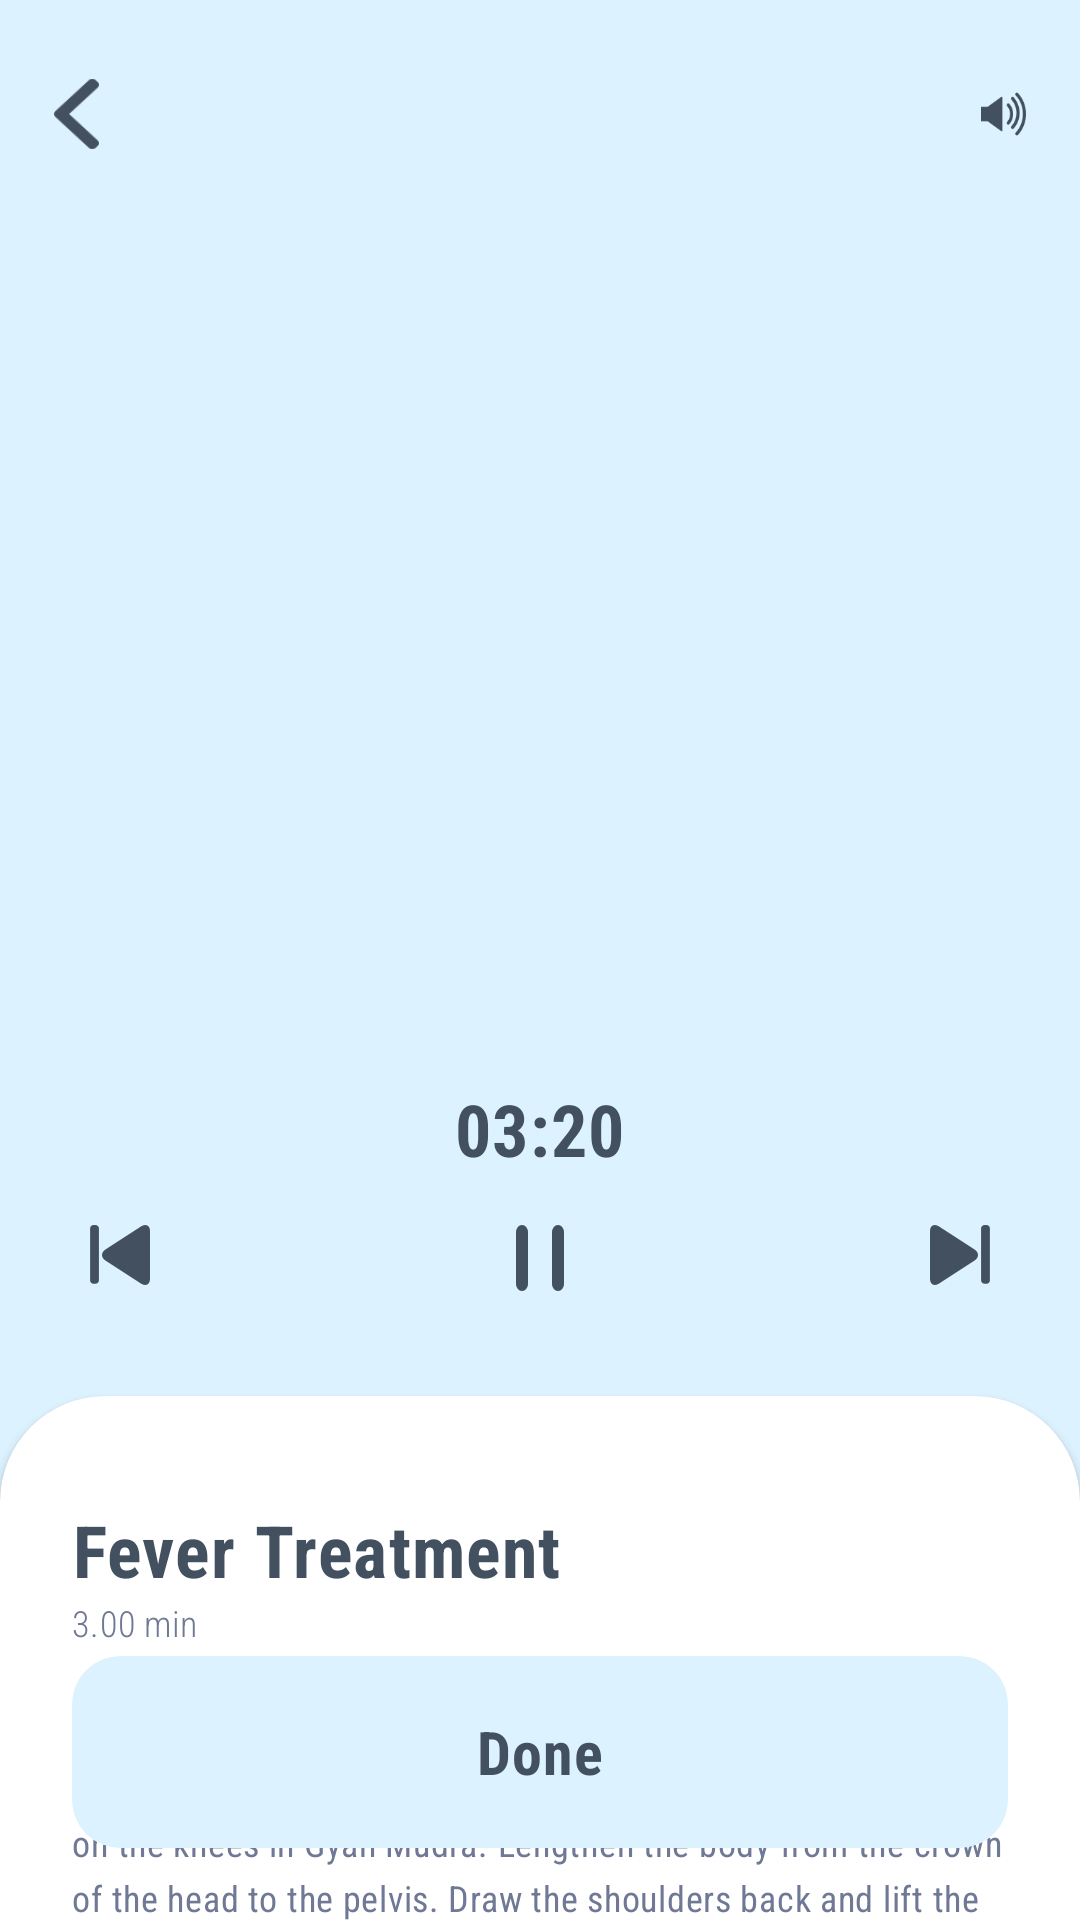

Screen size 1080w x 1920h. Icon name, then its box in pixels as (x1, y1, x2, y2):
back: (54, 79, 99, 149)
prior: (90, 1225, 150, 1285)
voice: (981, 92, 1026, 136)
